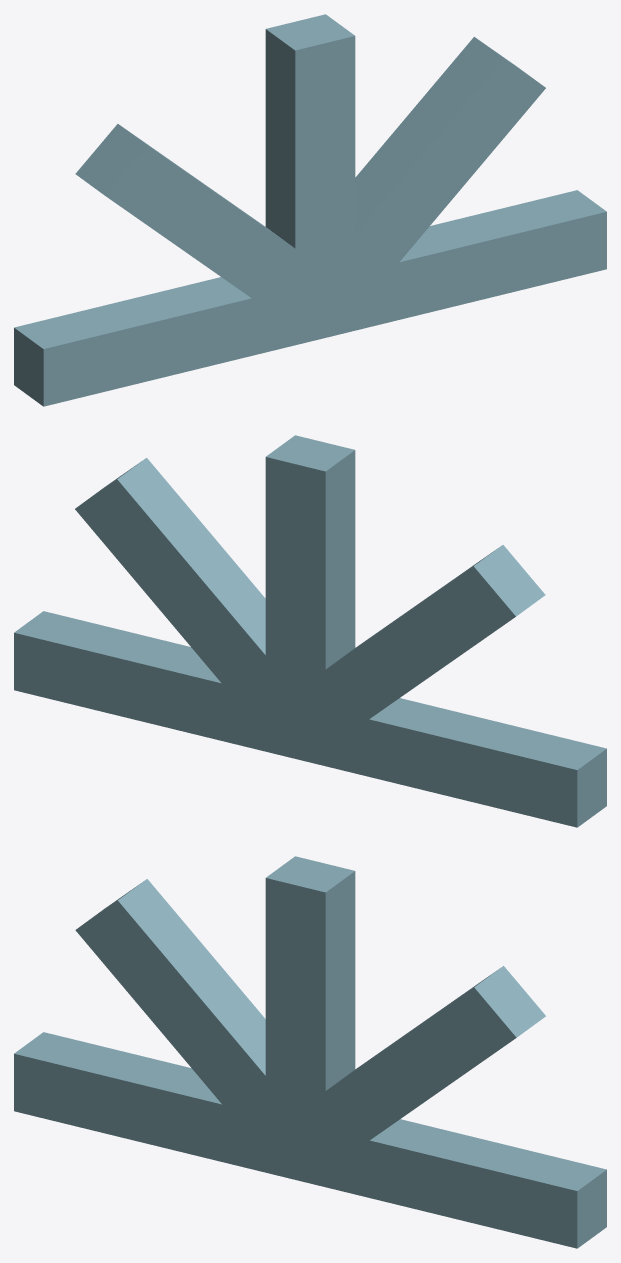
The model's file is sahara.glb.
3 views of the same model, one above another, from view 1: azimuth 30°, elevation 25°; view 2: azimuth 150°, elevation 25°; view 3: azimuth 330°, elevation 25° (orthographic).
Parts seen in each view (by area): view 1: Mesh_Mesh_head_geo.001_lambert2SG.001; view 2: Mesh_Mesh_head_geo.001_lambert2SG.001; view 3: Mesh_Mesh_head_geo.001_lambert2SG.001.
Part boxes in pixels (<box>): Mesh_Mesh_head_geo.001_lambert2SG.001: <box>14,14,606,406</box>; Mesh_Mesh_head_geo.001_lambert2SG.001: <box>14,435,606,827</box>; Mesh_Mesh_head_geo.001_lambert2SG.001: <box>14,856,606,1248</box>.
Size of the model in its own units: 0.44 by 0.22 by 0.04.
